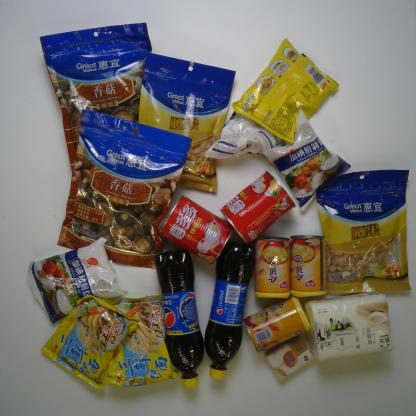Canned Food: (216, 168, 300, 249), (153, 189, 236, 268), (239, 292, 313, 356), (286, 231, 332, 300), (251, 233, 294, 303)
Dried Food: (54, 105, 194, 273), (36, 17, 155, 176)
Dried Fruit: (134, 48, 238, 197), (312, 165, 414, 298)
Drink: (200, 236, 258, 384), (151, 245, 208, 394)
Instant Noodles: (228, 32, 343, 146), (35, 290, 142, 397), (97, 291, 180, 390)
Seasoner: (260, 105, 356, 218), (22, 232, 131, 326), (202, 107, 290, 162)
Tissue: (302, 288, 396, 364), (262, 333, 317, 385)
